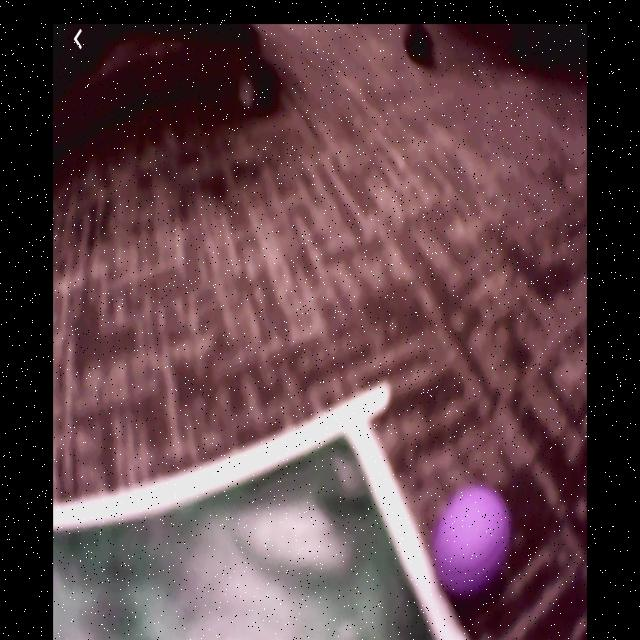ball: (432, 482, 513, 601)
